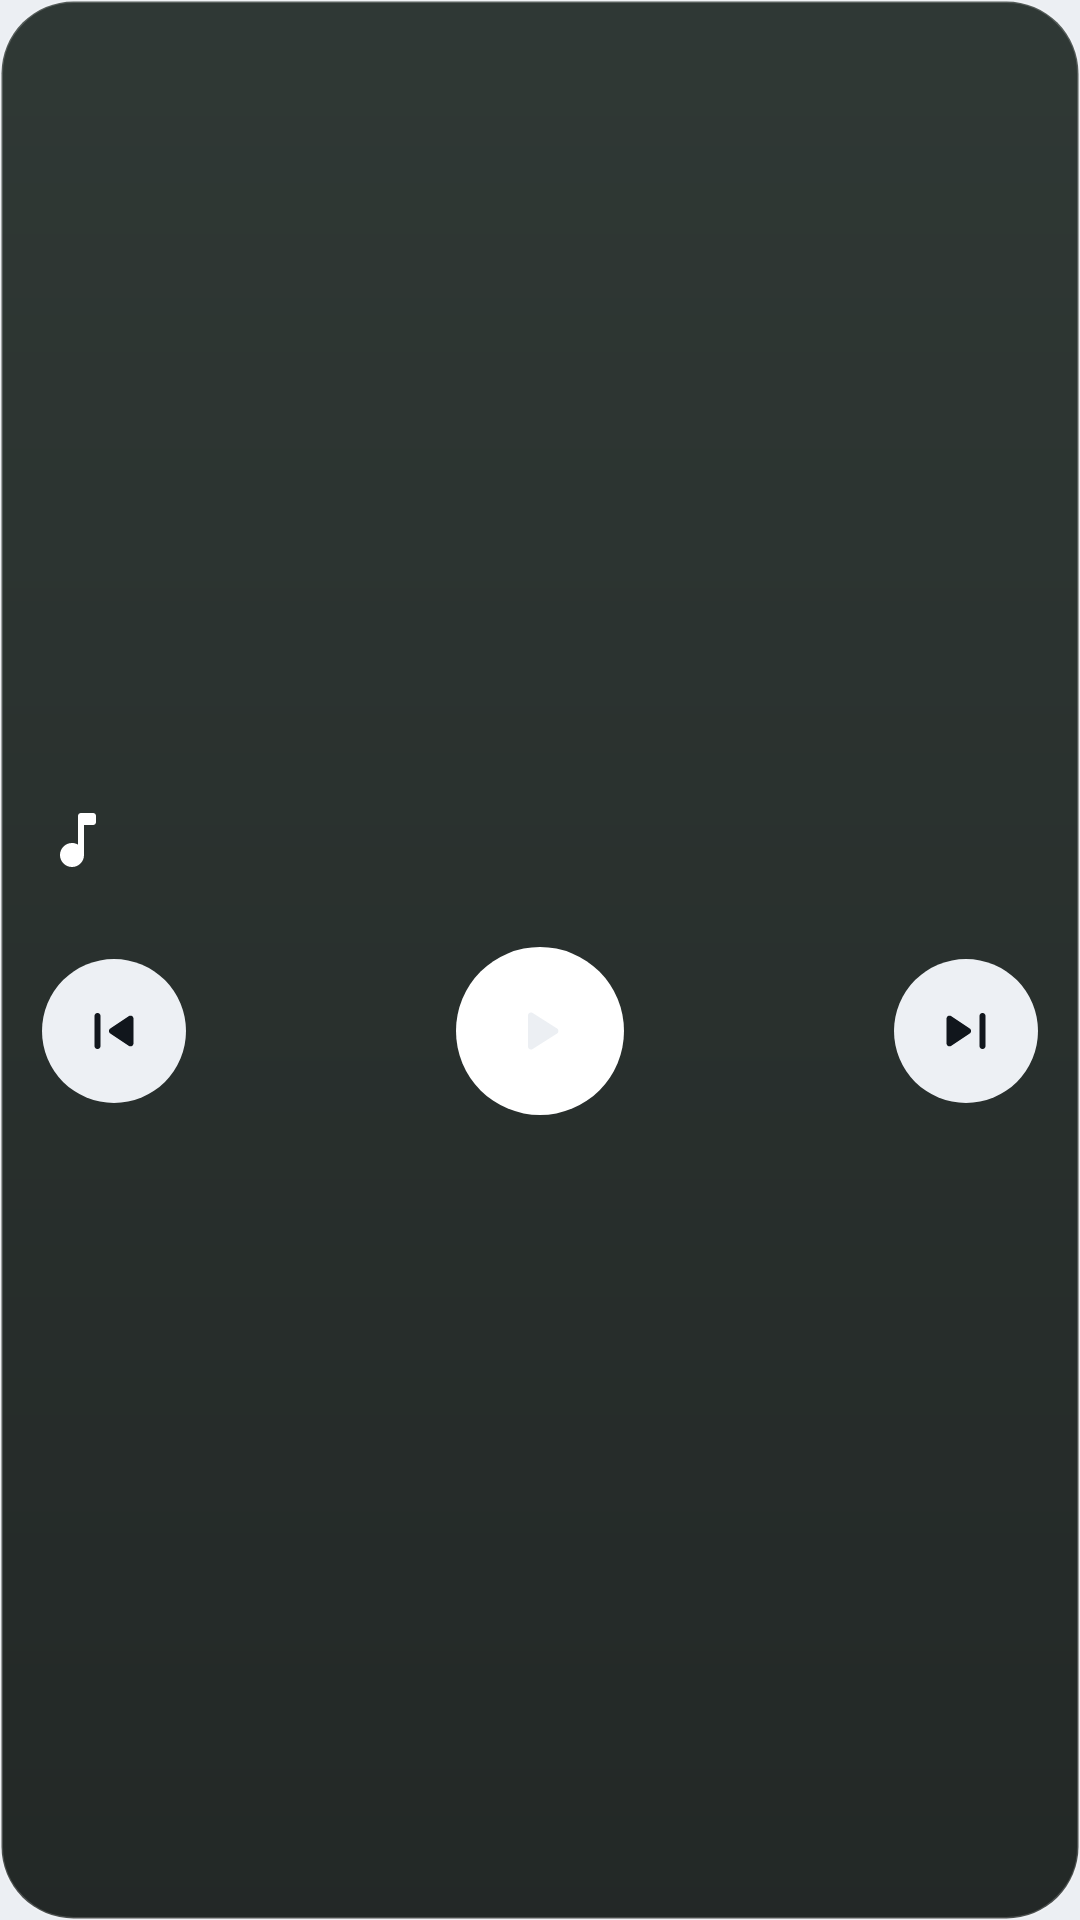

Named icons in this screenshot (1080 × 1920) and their bounding boxes, (x1, y1, x2, y2):
Next track: (894, 959, 1038, 1103)
Play or pause: (456, 947, 624, 1115)
skip previous: (42, 959, 186, 1103)
